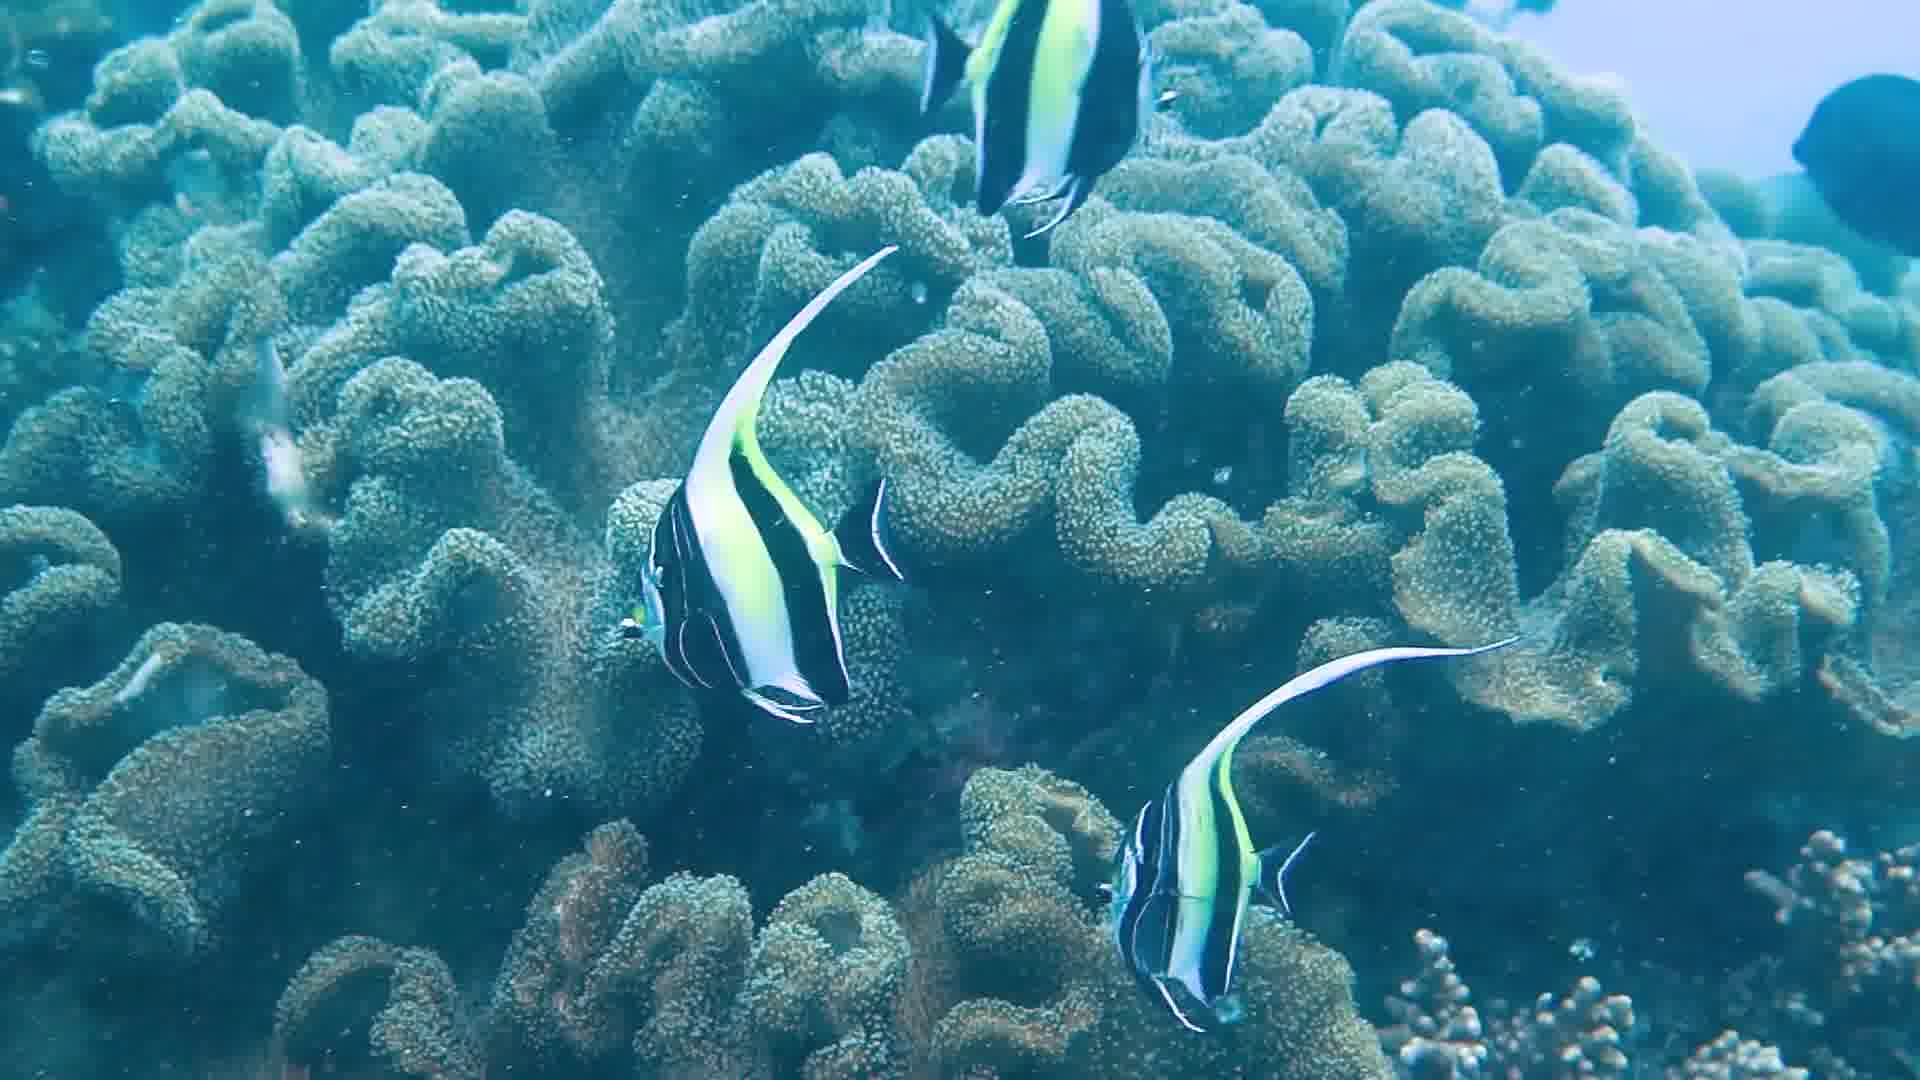Zanclus cornutus: (615, 396, 918, 731), (1054, 721, 1364, 1027), (881, 1, 1180, 276)
